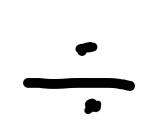div: (24, 42, 136, 114)
